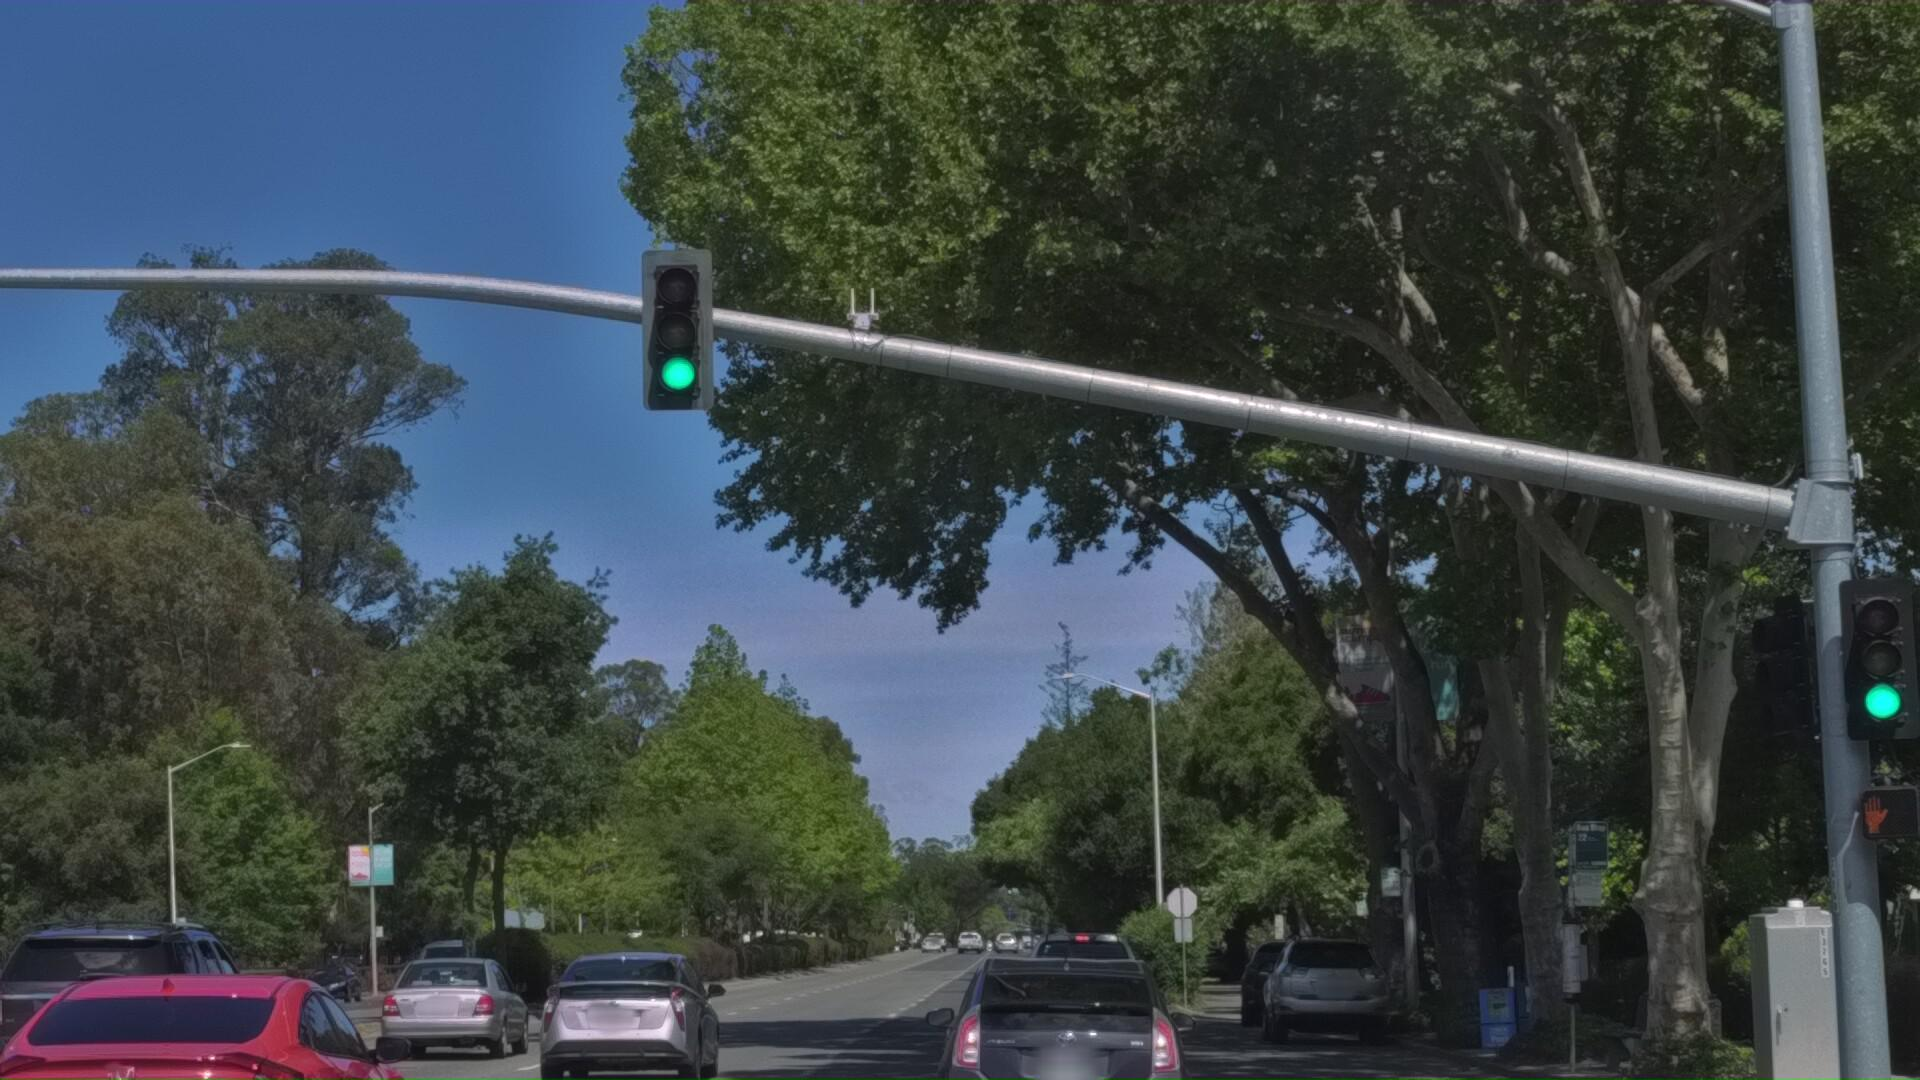car: (0, 1009, 433, 1080), (0, 976, 276, 1080), (890, 1015, 1213, 1080), (514, 1021, 727, 1080), (1015, 1001, 1168, 1080), (1251, 1014, 1398, 1080), (371, 1025, 545, 1080), (1233, 1021, 1352, 1080)
